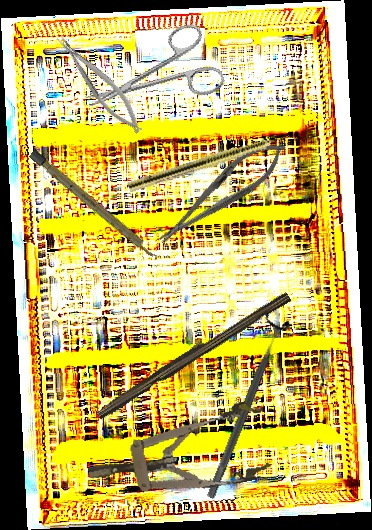Fixation Ring: (196, 312, 293, 503)
Handpiece: (127, 126, 300, 196)
Iris Scissors: (73, 18, 228, 135)
Needle Holder: (148, 129, 295, 256), (51, 26, 149, 141)
Scalpel Handle: (93, 286, 292, 423), (28, 149, 160, 261)
Speculum: (81, 398, 276, 511)
